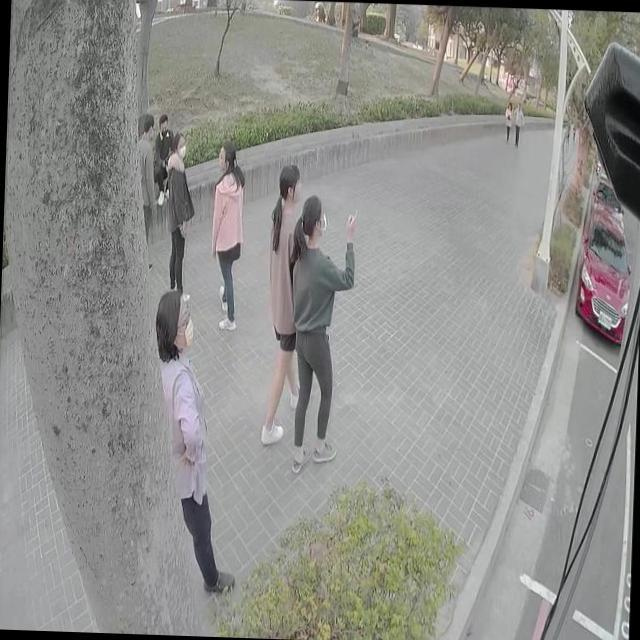person: (144, 288, 242, 592), (285, 192, 356, 473), (261, 162, 306, 444), (208, 138, 245, 329), (163, 132, 194, 290), (136, 113, 155, 233), (152, 112, 174, 202), (513, 102, 524, 147), (504, 100, 512, 138)
